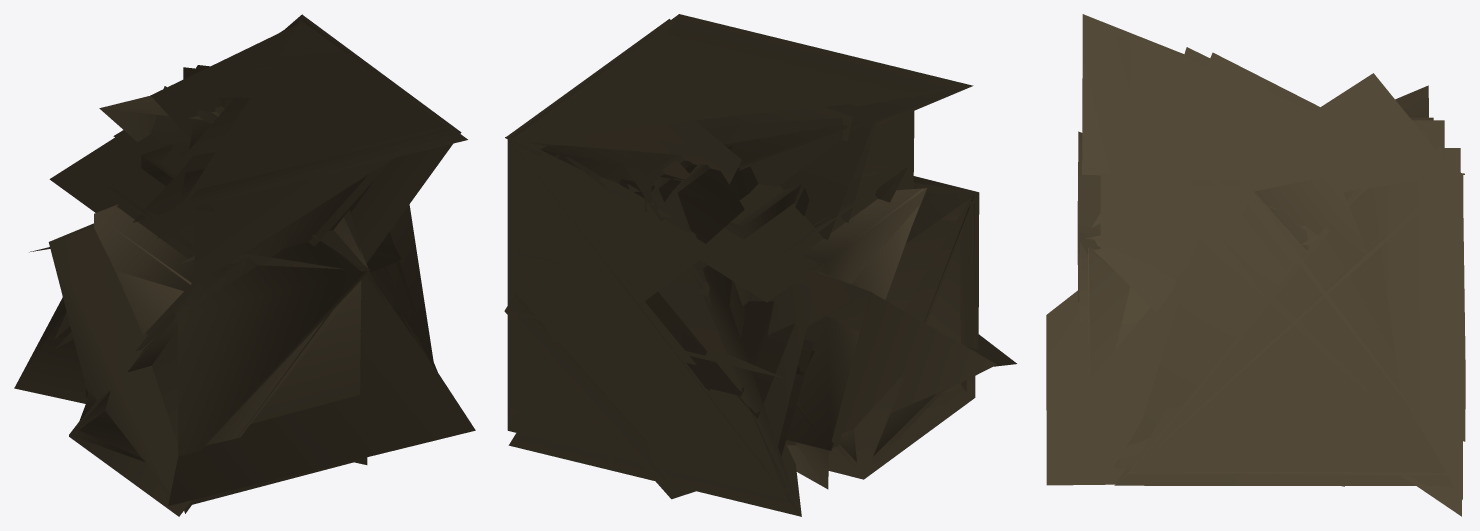
3 renders of one model, left to right at view 1: azimuth 30°, elevation 25°; view 2: azimuth 150°, elevation 25°; view 3: azimuth 270°, elevation 25°, orthographic. The views are drawn at different scales.
Parts seen in each view (by area): view 1: flag; view 2: flag; view 3: flag.
Part boxes in pixels (box(x1,y1,x2,y2)): flag: box(14, 14, 475, 516); flag: box(504, 14, 1016, 516); flag: box(1046, 14, 1465, 516).
Bounding box in the file's own units: 2.71e-40 × 2.6e-40 × 2.71e-40.
